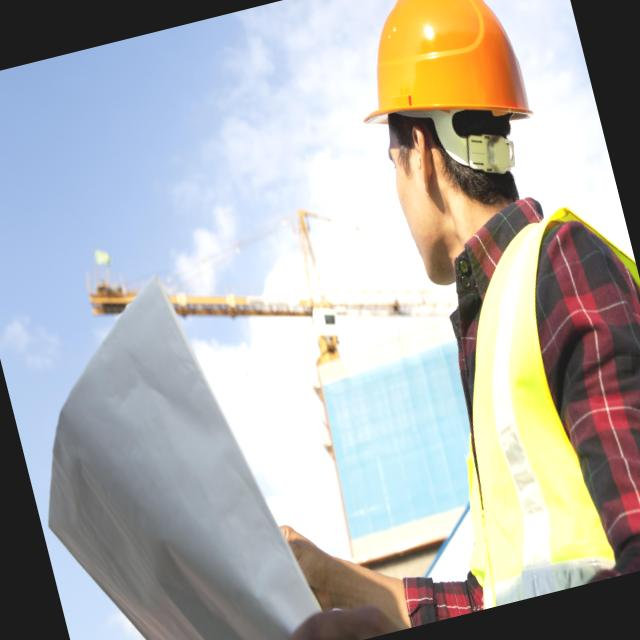helmet: (331, 0, 535, 151)
vest: (396, 200, 639, 594)
